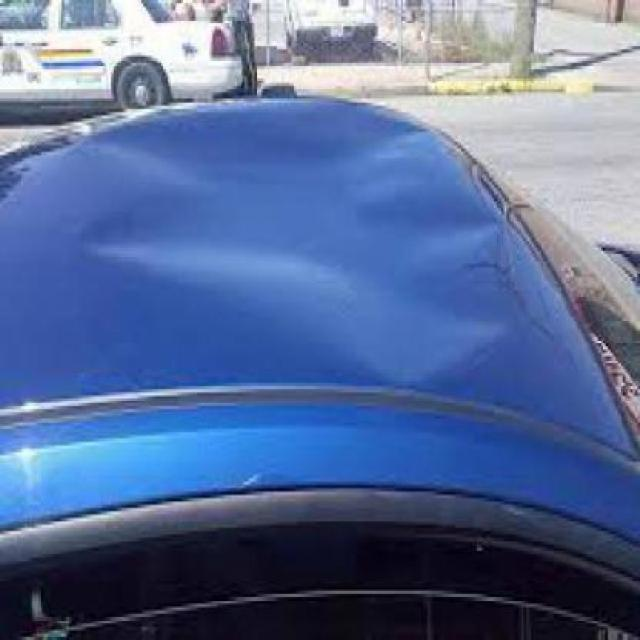roof-dent: (11, 90, 635, 483)
